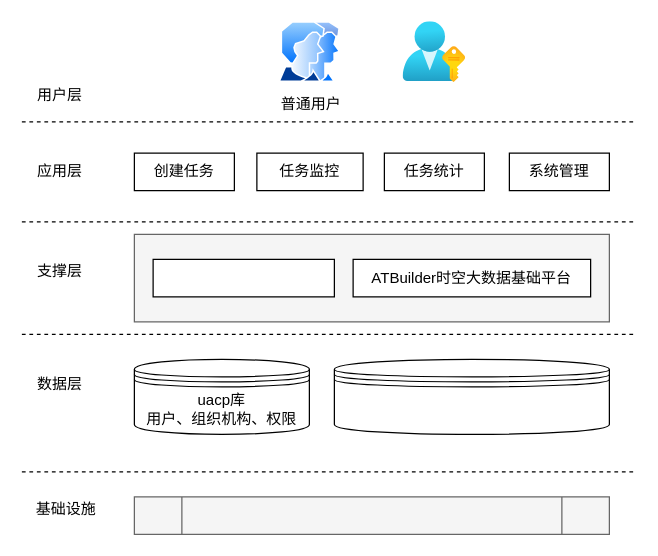
The diagram is 658 pixels wide and 556 high, and some of its shapes have lost their labels. The centre of each missing label's shape, as x and y in pixels:
"atplatform库 元数据、算法、模型、任务、监控" goes at point 471,396.
"时空数据管理（tsdb）" goes at point 243,277.
"硬件、网络设备" goes at point 371,515.
"管理员" goes at point 433,51.
